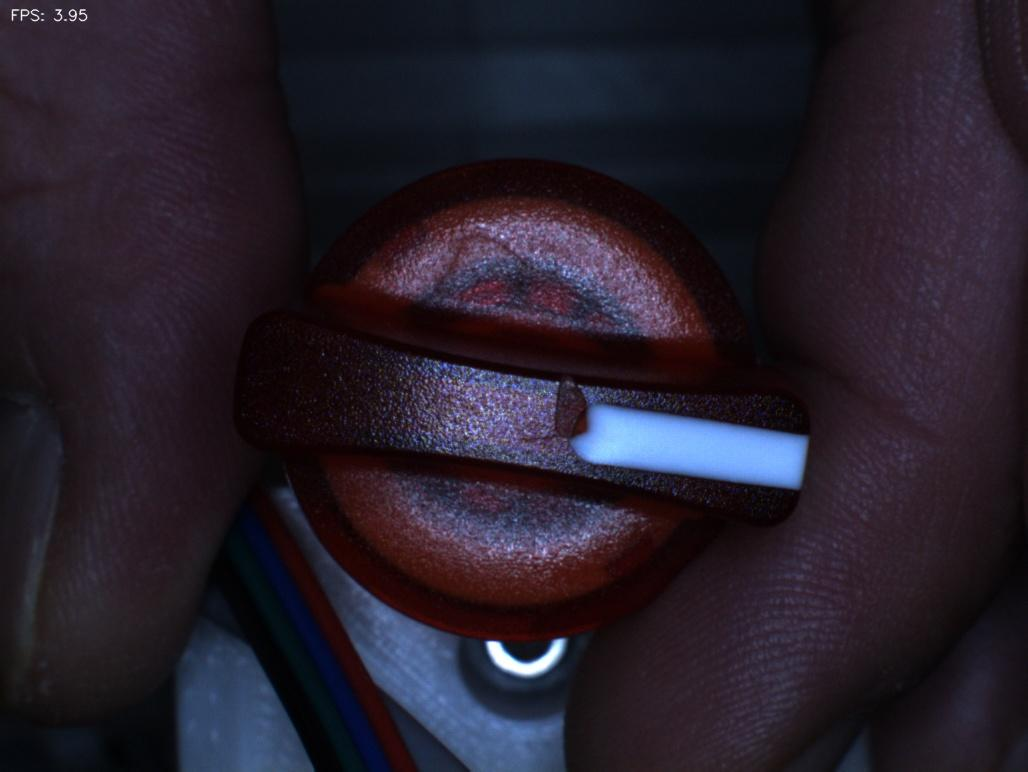Choc: (521, 352, 611, 456)
